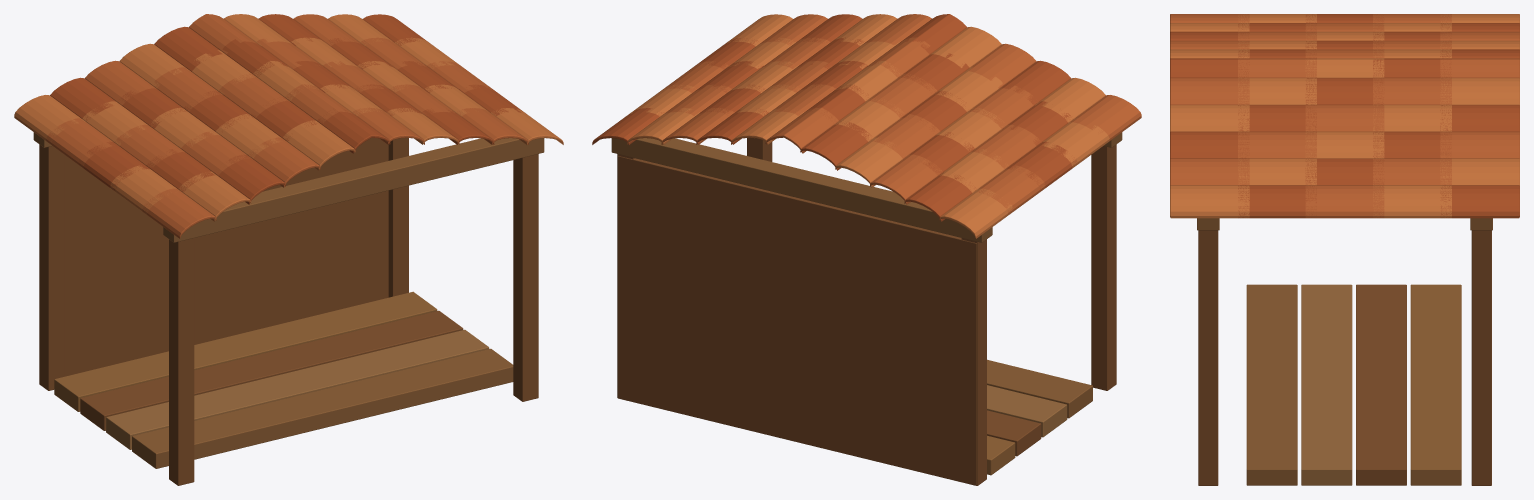
File: barrel_lean_to.glb
The picture shows the model from 3 angles, left to right: view 1: azimuth 30°, elevation 25°; view 2: azimuth 150°, elevation 25°; view 3: azimuth 270°, elevation 25°; orthographic projection. The views are drawn at different scales.
Visible parts, largest first — view 1: barrel_lean_to; view 2: barrel_lean_to; view 3: barrel_lean_to.
Part boxes in pixels (box(x1,y1,x2,y2)): barrel_lean_to: box(14, 14, 563, 485); barrel_lean_to: box(592, 14, 1141, 485); barrel_lean_to: box(1170, 14, 1519, 485).
Size of the model in its own units: 5.13 by 4.04 by 3.84.
